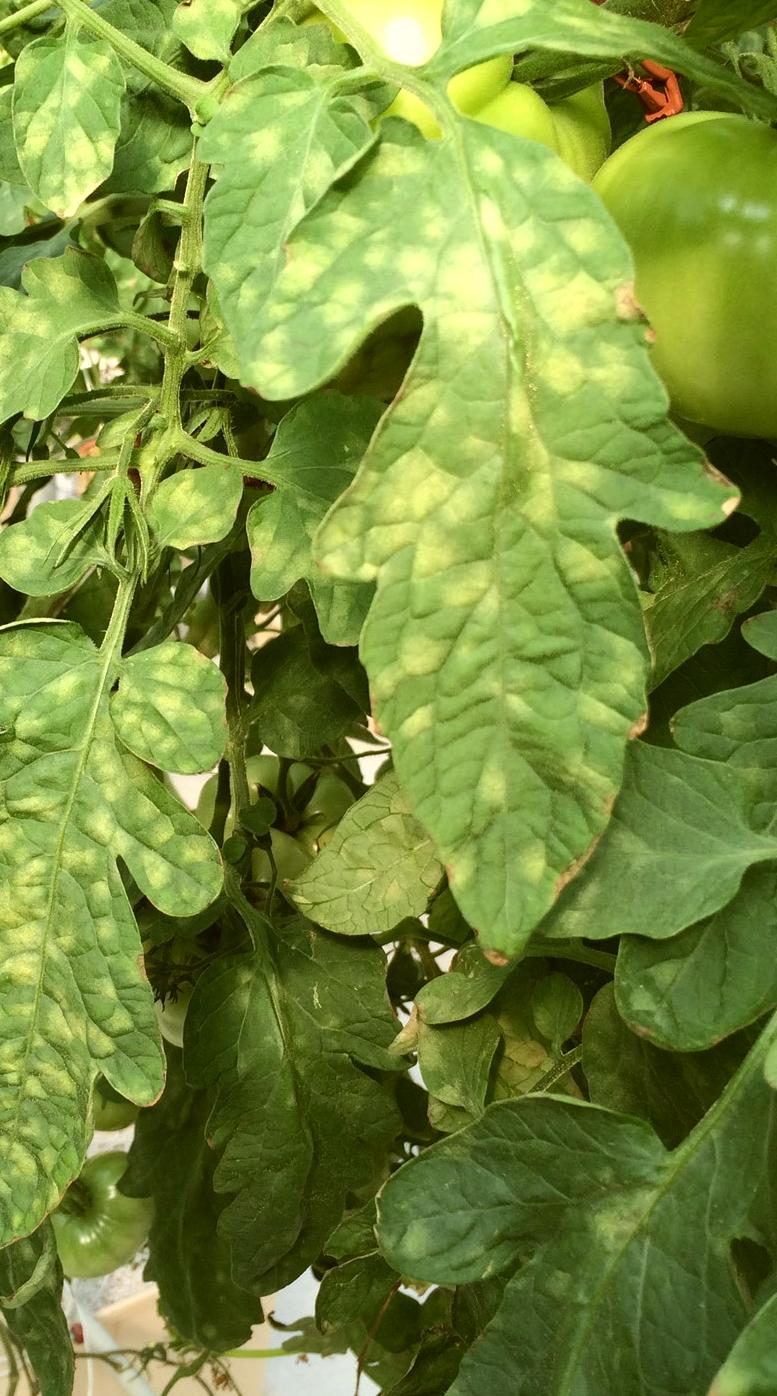Tomato mold leaf: (271, 124, 668, 957), (0, 616, 225, 1270), (196, 48, 389, 277), (0, 250, 159, 477), (290, 735, 457, 942), (7, 32, 122, 236), (441, 0, 688, 80), (141, 464, 252, 563), (0, 496, 88, 597)
